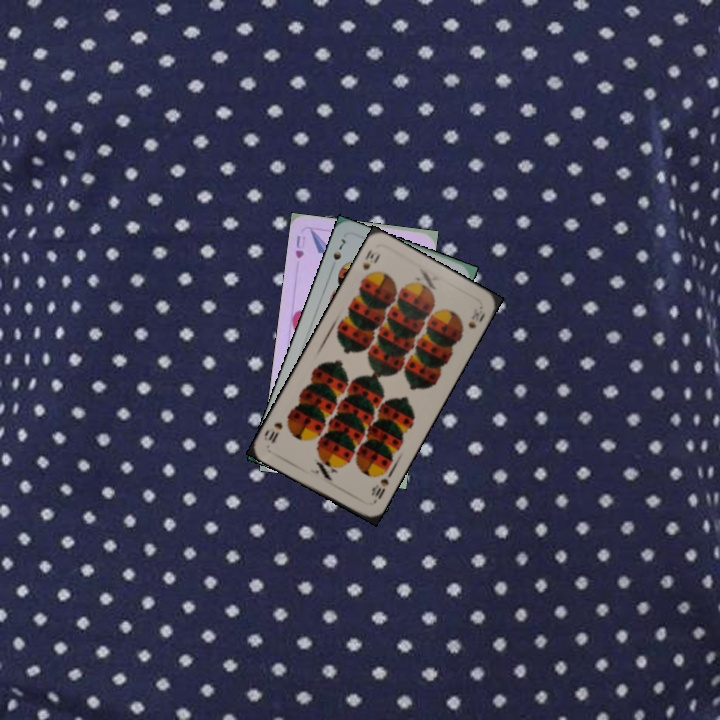HU: (291, 231, 308, 261)
S10: (357, 245, 383, 283), (367, 474, 392, 506)
S7: (329, 234, 348, 263)
